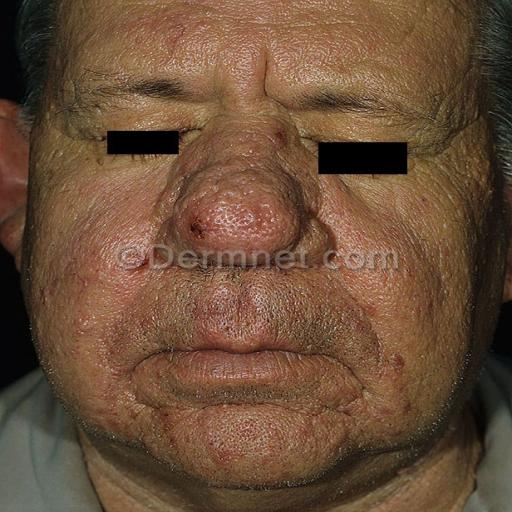Skin_Lesion: (69, 278, 94, 337), (152, 408, 178, 452), (271, 112, 295, 158), (489, 331, 512, 377), (43, 152, 63, 200), (239, 206, 263, 240), (416, 0, 444, 21), (38, 285, 54, 311), (72, 273, 91, 293), (72, 0, 93, 16), (394, 349, 408, 372)
